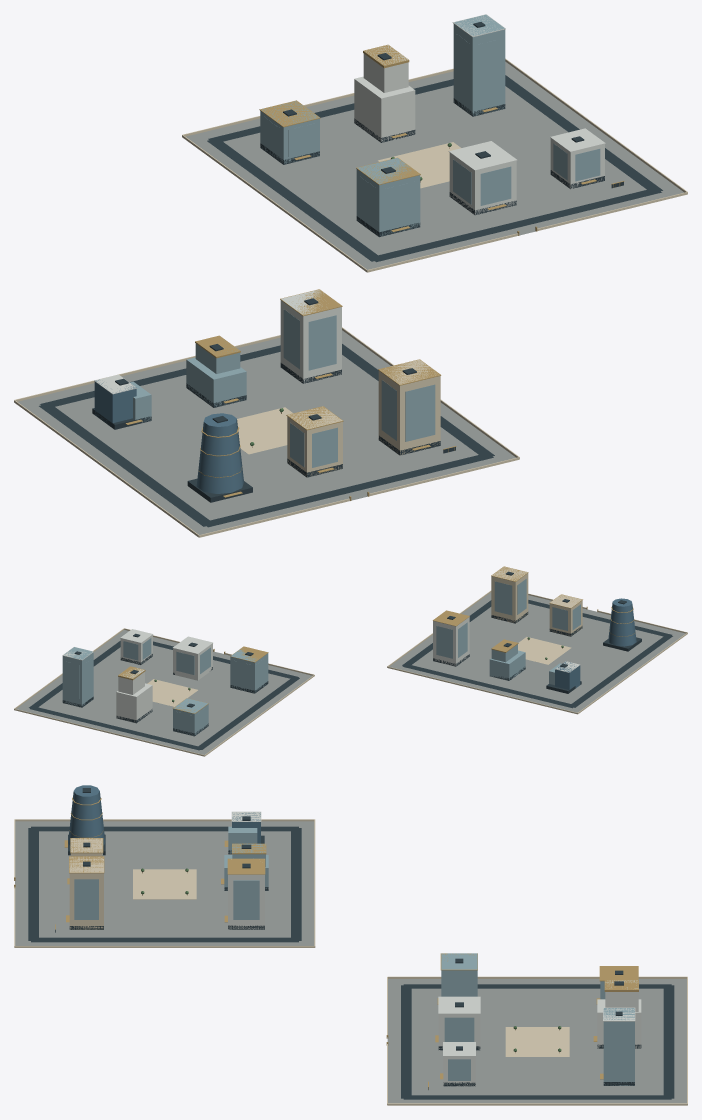
Rendered from GC-TILE-19-08.glb.
3 views of the same model, one above another, from view 1: azimuth 30°, elevation 25°; view 2: azimuth 150°, elevation 25°; view 3: azimuth 270°, elevation 25° (orthographic). The views are drawn at different scales.
Parts seen in each view (by area): view 1: GC-TILE-19-08-paving, GC-TILE-19-08-glass, GC-TILE-19-08-dark, GC-TILE-19-08-ivory, GC-TILE-19-08-white, GC-TILE-19-08-gold, GC-TILE-19-08-blue; view 2: GC-TILE-19-08-paving, GC-TILE-19-08-glass, GC-TILE-19-08-dark, GC-TILE-19-08-ivory, GC-TILE-19-08-white, GC-TILE-19-08-blue, GC-TILE-19-08-gold; view 3: GC-TILE-19-08-paving, GC-TILE-19-08-dark, GC-TILE-19-08-ivory, GC-TILE-19-08-glass, GC-TILE-19-08-white, GC-TILE-19-08-gold, GC-TILE-19-08-blue.
Part boxes in pixels (x1,y1,x2,y2): GC-TILE-19-08-paving: (18, 61, 683, 534); GC-TILE-19-08-glass: (130, 14, 600, 467); GC-TILE-19-08-dark: (39, 22, 662, 527); GC-TILE-19-08-ivory: (14, 58, 687, 537); GC-TILE-19-08-white: (94, 14, 605, 394); GC-TILE-19-08-gold: (125, 44, 624, 500); GC-TILE-19-08-blue: (94, 379, 243, 493); GC-TILE-19-08-paving: (16, 592, 685, 754); GC-TILE-19-08-glass: (62, 578, 580, 735); GC-TILE-19-08-dark: (29, 571, 672, 750); GC-TILE-19-08-ivory: (14, 567, 687, 756); GC-TILE-19-08-white: (62, 617, 580, 722); GC-TILE-19-08-blue: (555, 598, 636, 689); GC-TILE-19-08-gold: (118, 566, 635, 713); GC-TILE-19-08-paving: (15, 821, 686, 1103); GC-TILE-19-08-dark: (28, 788, 674, 1099); GC-TILE-19-08-ivory: (14, 819, 687, 1105); GC-TILE-19-08-glass: (74, 826, 634, 1085); GC-TILE-19-08-white: (228, 811, 641, 1086); GC-TILE-19-08-gold: (14, 797, 638, 1089); GC-TILE-19-08-blue: (68, 785, 260, 845).
Bounding box in the file's own units: 759 × 82.48 × 760.
